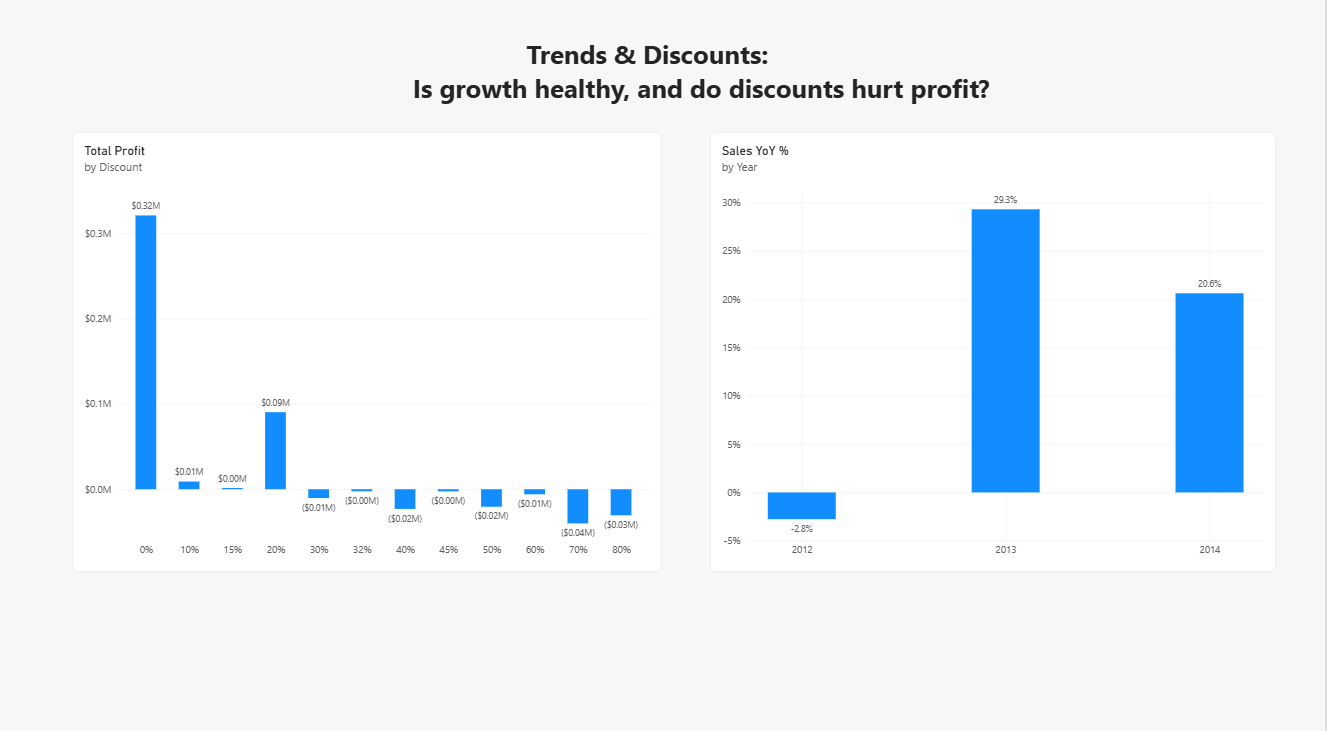

Layout of this report page (visuals, bound fields, positions):
{"tool":"powerbi","page":{"name":"Trends & Discounts","canvas":[1920,1080],"ordinal":2},"visuals":[{"type":"clusteredColumnChart","fields":{"Category":["Sales.Discount"],"Y":["Sales.Total Profit"]},"box":[106.5,207,852.3,636.1],"z":0},{"type":"clusteredColumnChart","fields":{"Category":["Calendar.Year"],"Y":["Sales.Sales YoY %"]},"box":[1028.8,207,818.8,636.1],"z":1000},{"type":"textbox","box":[599.6,67,958.8,170.5],"z":1001}]}

Visuals, with their boxes in screenshot pixels (x1, y1, x2, y2), scaled from the page's 1920x1080 canvas onto the 1327x731 screenshot:
clusteredColumnChart - Sales.Discount x Sales.Total Profit: rect(74, 140, 663, 571)
clusteredColumnChart - Calendar.Year x Sales.Sales YoY %: rect(711, 140, 1277, 571)
textbox: rect(414, 45, 1077, 161)
